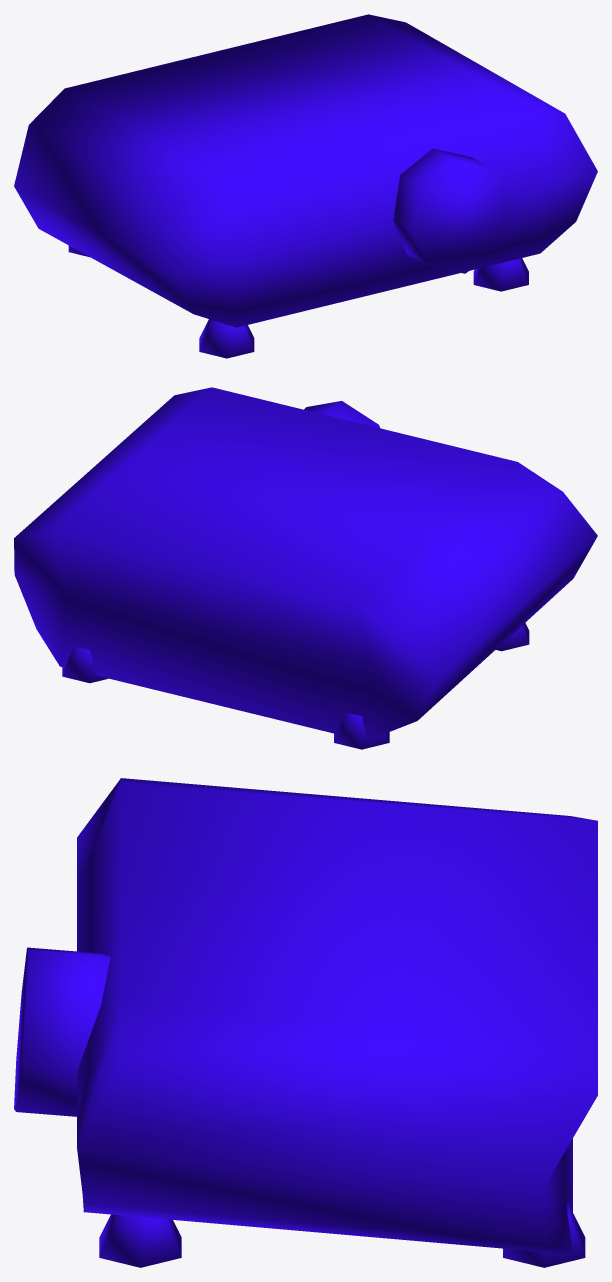
Rendered from office_pack_videoProjector_1_meshCollider.fbx.
3 renders of one model, top to bottom at view 1: azimuth 30°, elevation 25°; view 2: azimuth 150°, elevation 25°; view 3: azimuth 270°, elevation 25°, orthographic. The views are drawn at different scales.
Parts seen in each view (by area): view 1: office_pack_videoProjector_1_meshCollider; view 2: office_pack_videoProjector_1_meshCollider; view 3: office_pack_videoProjector_1_meshCollider.
Part boxes in pixels (x1,y1,x2,y2): office_pack_videoProjector_1_meshCollider: [14, 14, 597, 358]; office_pack_videoProjector_1_meshCollider: [14, 387, 597, 749]; office_pack_videoProjector_1_meshCollider: [14, 778, 597, 1267].
Size of the model in its own units: 35.55 by 13.8 by 28.34.
